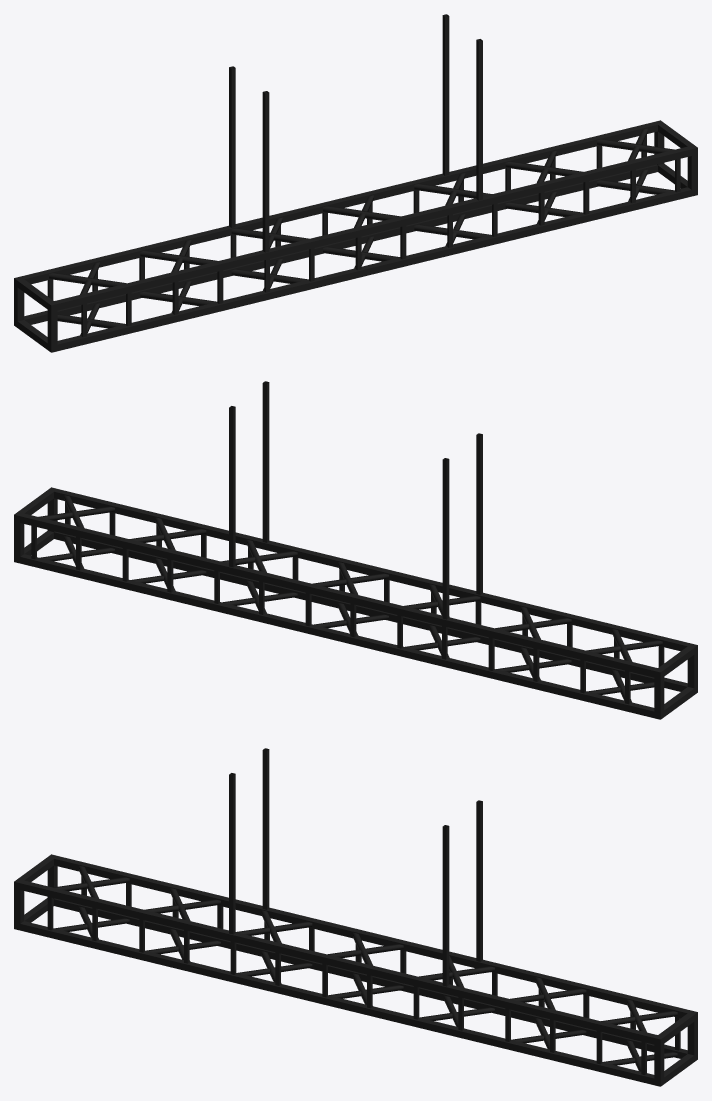
Rendered from structure.obj.
3 renders of one model, top to bottom at view 1: azimuth 30°, elevation 25°; view 2: azimuth 150°, elevation 25°; view 3: azimuth 330°, elevation 25°, orthographic.
Parts seen in each view (by area): view 1: StructureCeiling; view 2: StructureCeiling; view 3: StructureCeiling.
Part boxes in pixels (x1,y1,x2,y2): StructureCeiling: (14, 14, 697, 352); StructureCeiling: (14, 381, 697, 719); StructureCeiling: (14, 748, 697, 1086).
Bounding box in the file's own units: 5 × 1.53 × 0.5.
